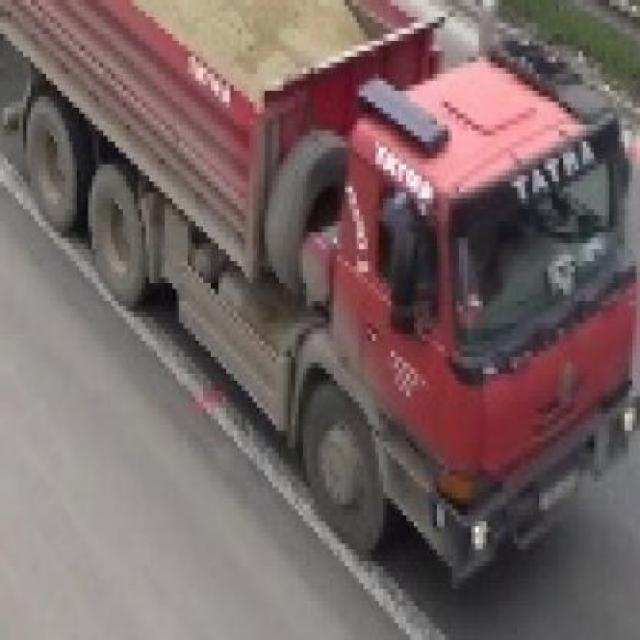truck: (4, 1, 640, 573)
